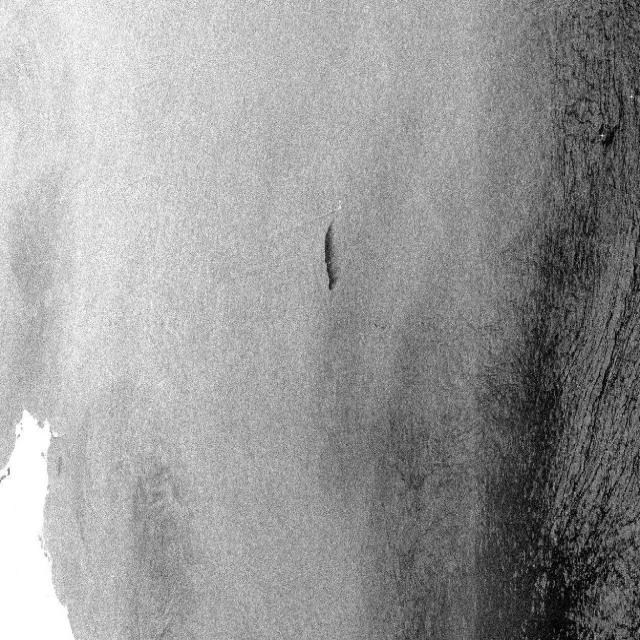look-alike: (477, 262, 639, 640), (538, 2, 636, 258)
oil-spill: (318, 216, 348, 307)
